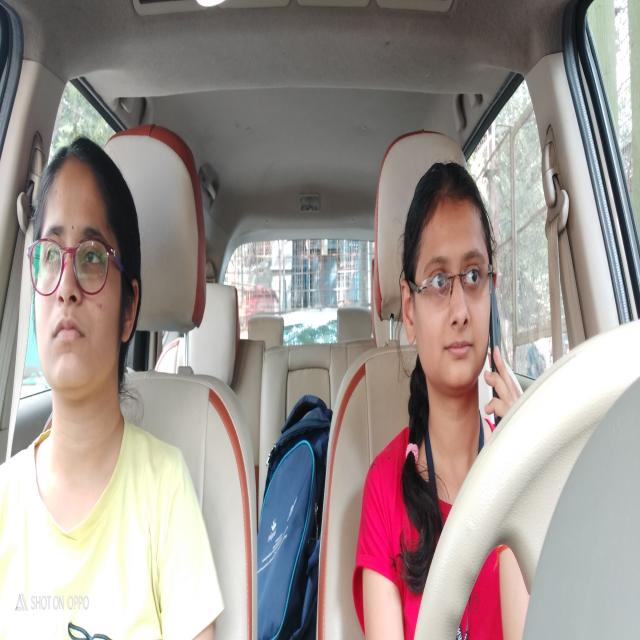mobile: (489, 280, 510, 442)
person: (26, 132, 140, 422), (398, 160, 508, 440)
